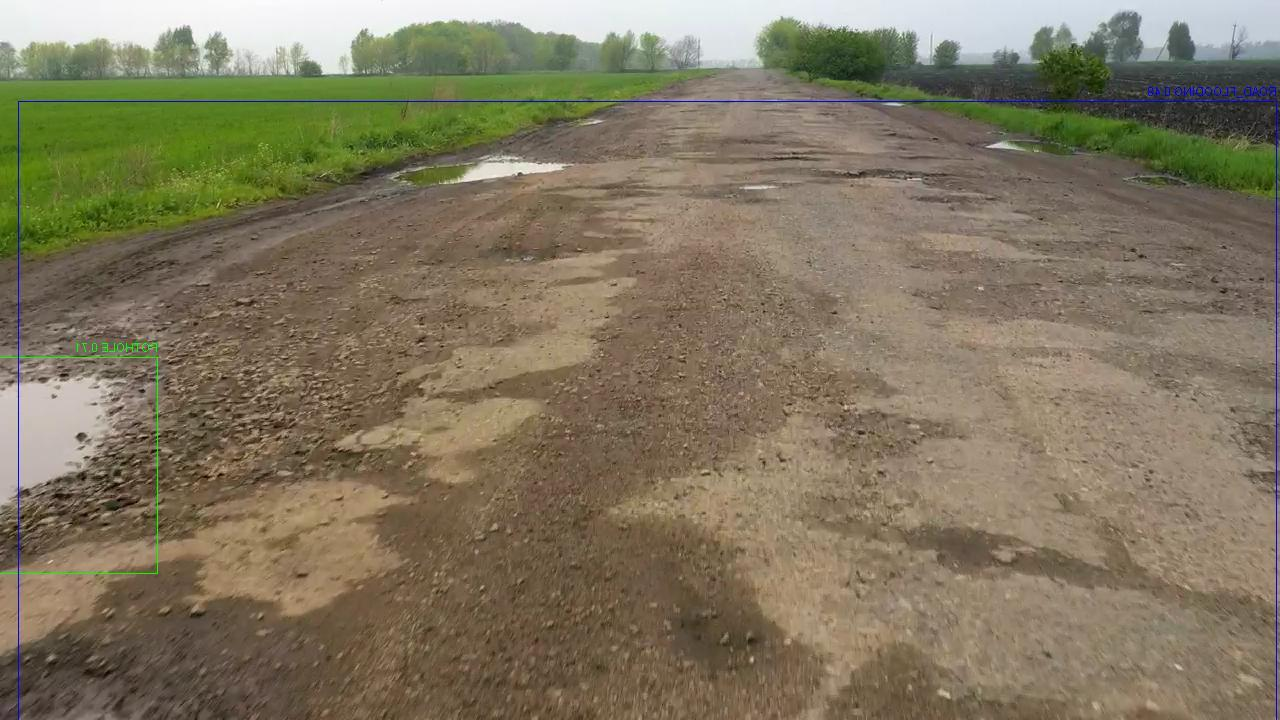ROAD_FLOODING: (32, 328, 1184, 673)
